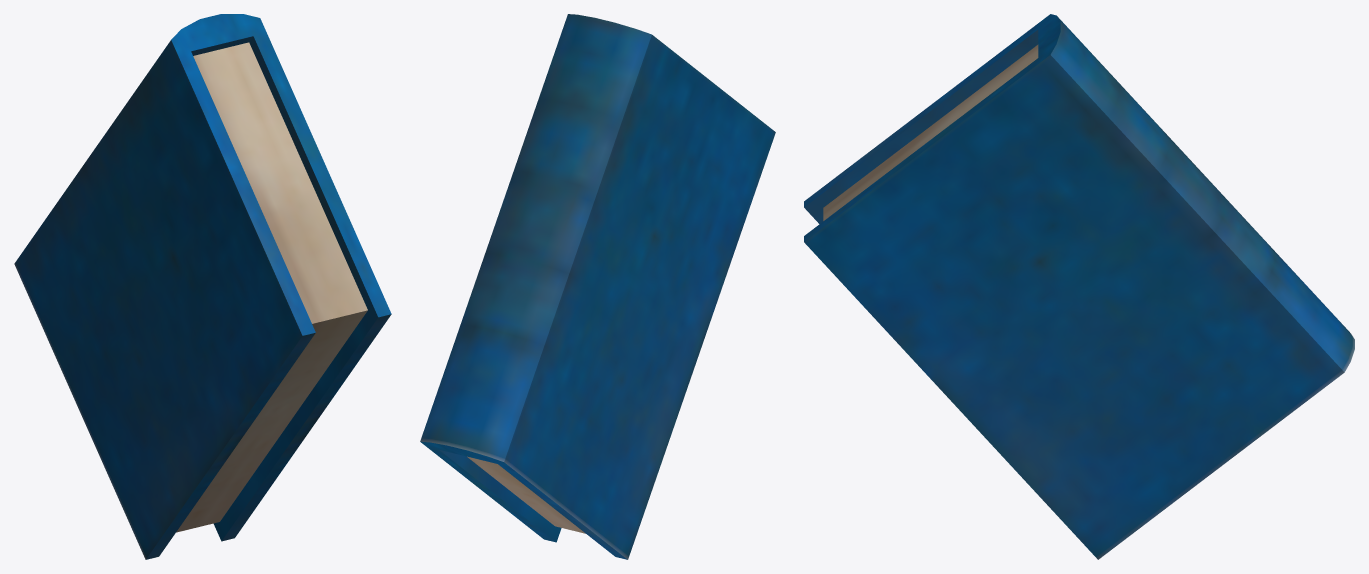
File: book-03.fbx
The picture shows the model from 3 angles, left to right: view 1: azimuth 30°, elevation 25°; view 2: azimuth 150°, elevation 25°; view 3: azimuth 270°, elevation 25°; orthographic projection. The views are drawn at different scales.
Visible parts, largest first — view 1: Cube.256; view 2: Cube.256; view 3: Cube.256.
Boxes of the visible parts, x1,y1,x2,y2 form: Cube.256: (14,14,391,559); Cube.256: (420,14,775,559); Cube.256: (804,14,1354,559).
Size of the model in its own units: 0.072 by 0.4222 by 0.4109.
